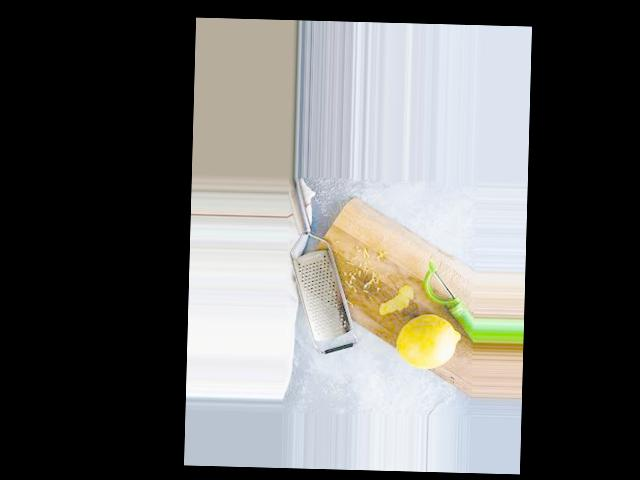lemon: (384, 306, 467, 373)
